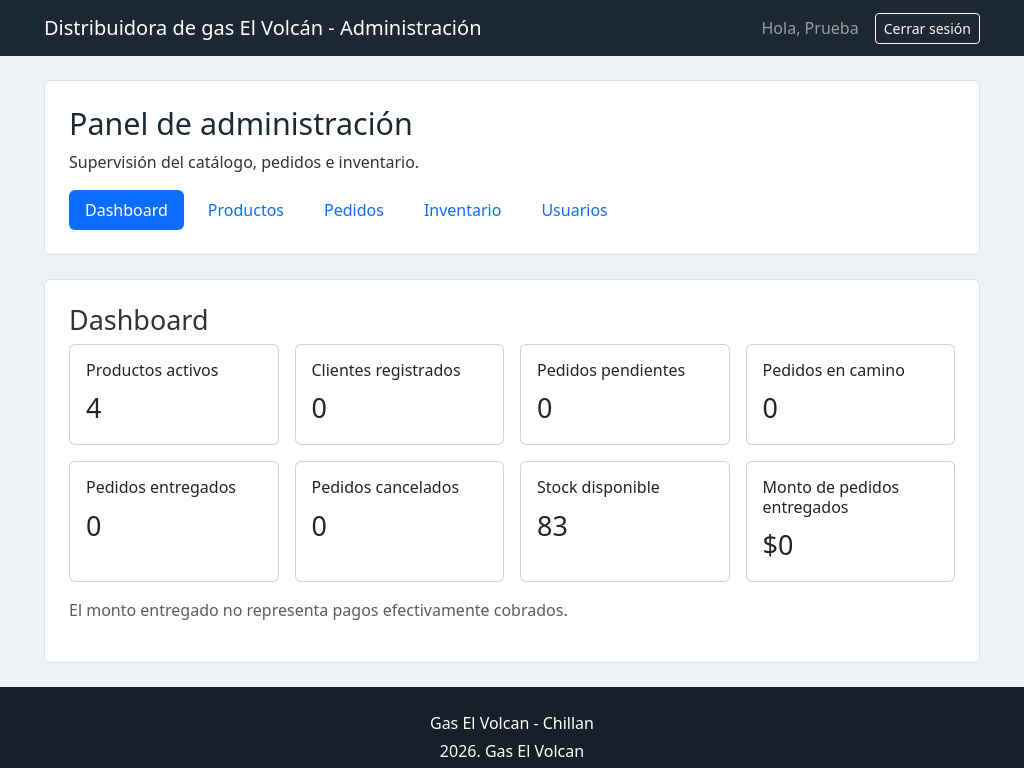
Test case: navega por secciones, muestra vacios y desactiva con confirmacion
The width and height of the screenshot is (1024, 768).
Later steps or results of the test are not shown.
Expected: the text "Clientes registrados" is shown, x1=312 y1=359 x2=461 y2=381
Click the button "Pedidos".
click(354, 210)  # box x1=308 y1=190 x2=400 y2=230
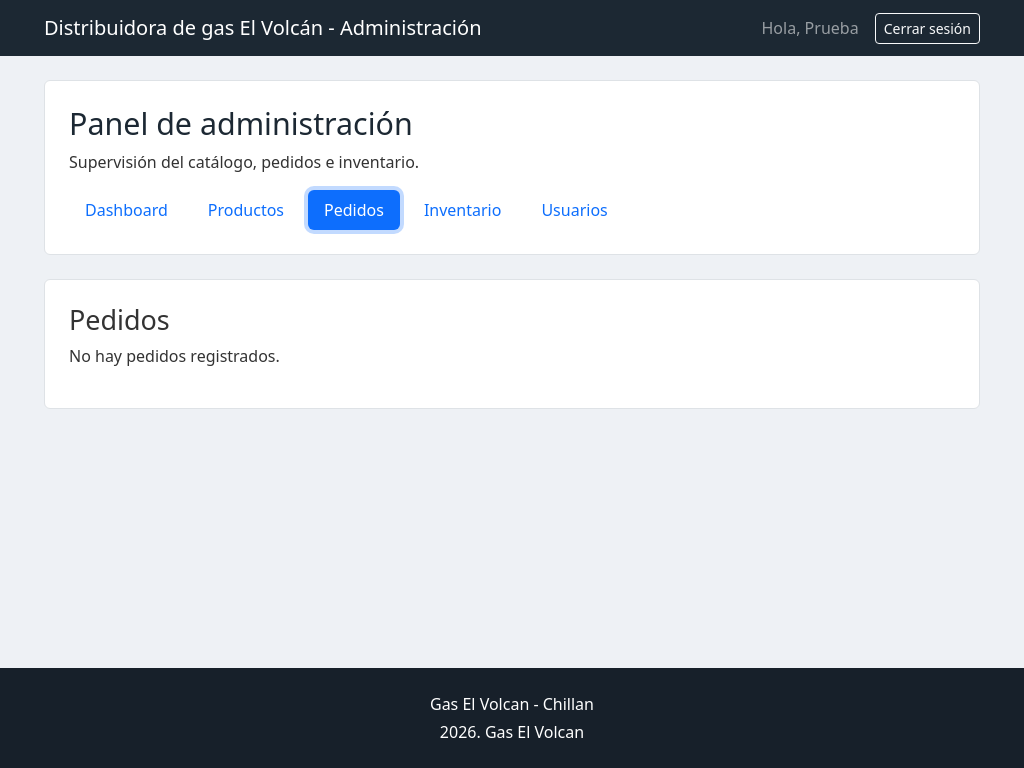
Expected: the text "No hay pedidos registrados." is shown, x1=69 y1=345 x2=280 y2=367
Click the button "Usuarios".
click(575, 210)  # box x1=525 y1=190 x2=624 y2=230
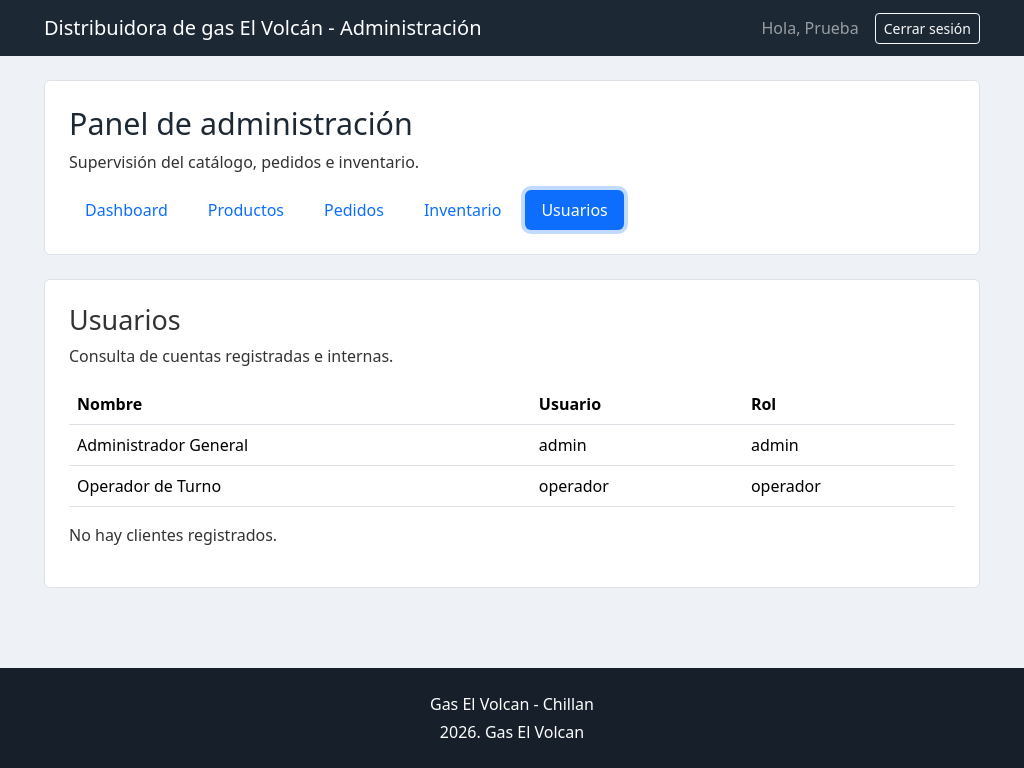
Click the button "Inventario".
click(463, 210)  # box x1=408 y1=190 x2=517 y2=230
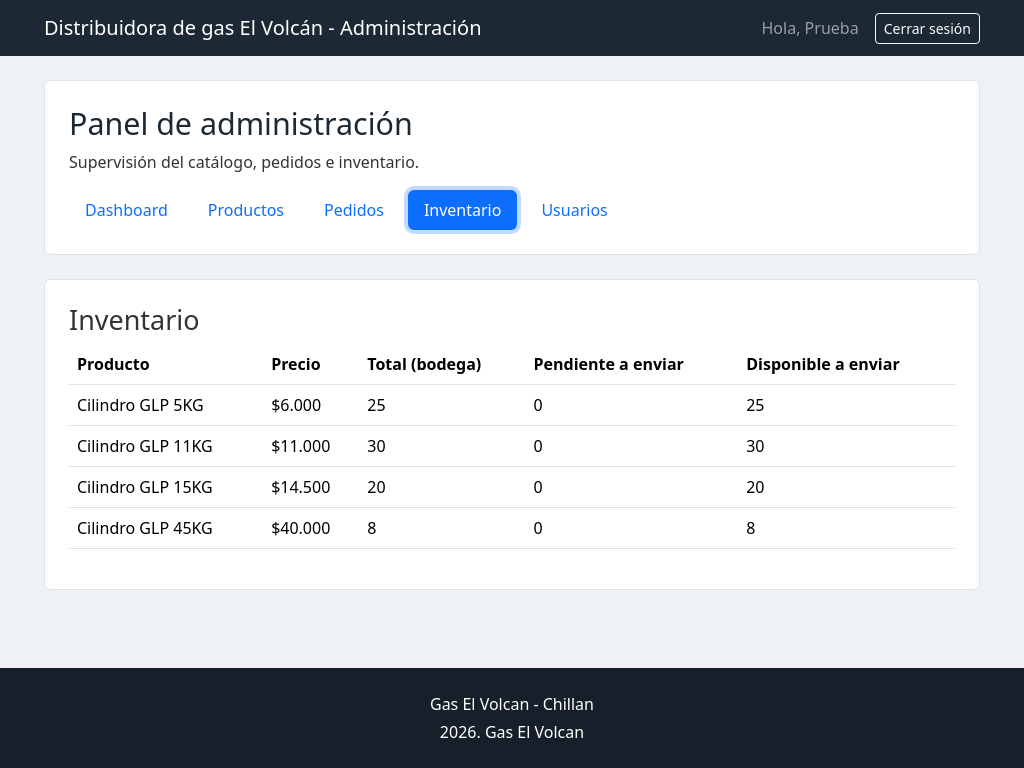
Expected: the column heading "Total (bodega)" is shown, x1=359 y1=344 x2=526 y2=384
